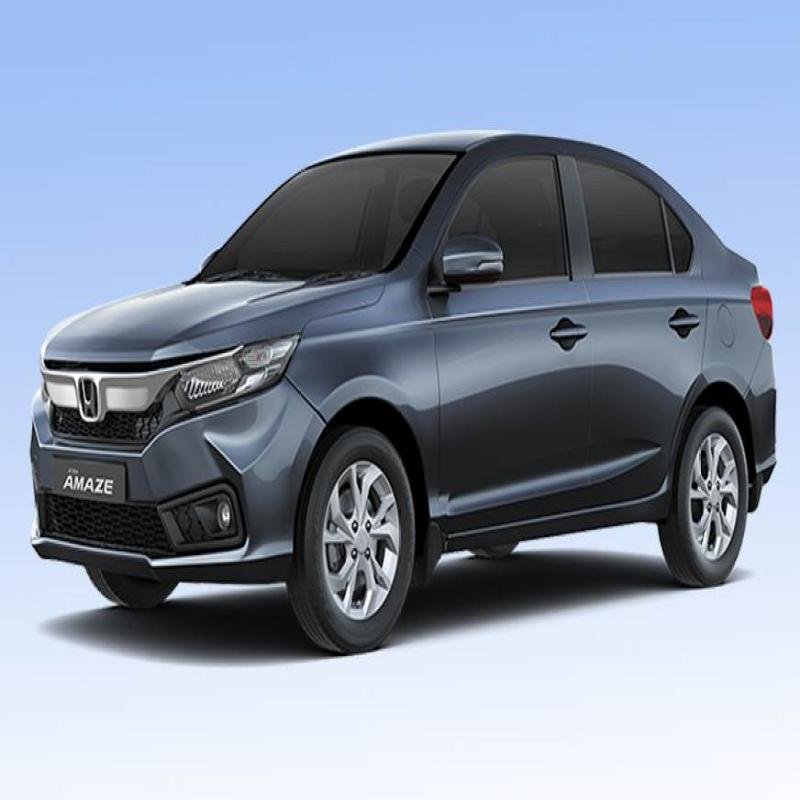car: (2, 119, 776, 659)
